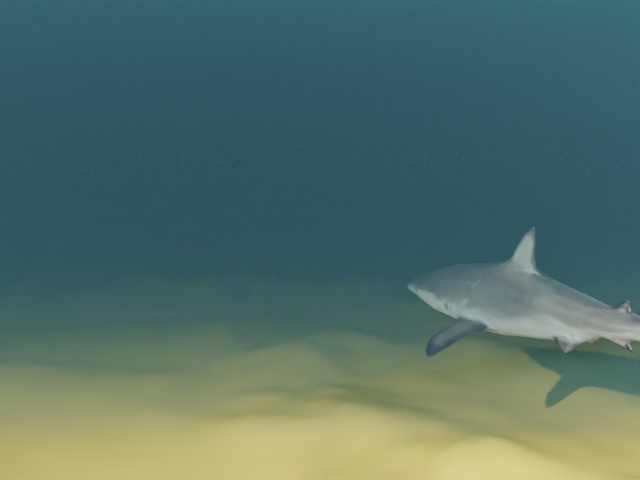Carribean Shark.001: (407, 226, 640, 391)
